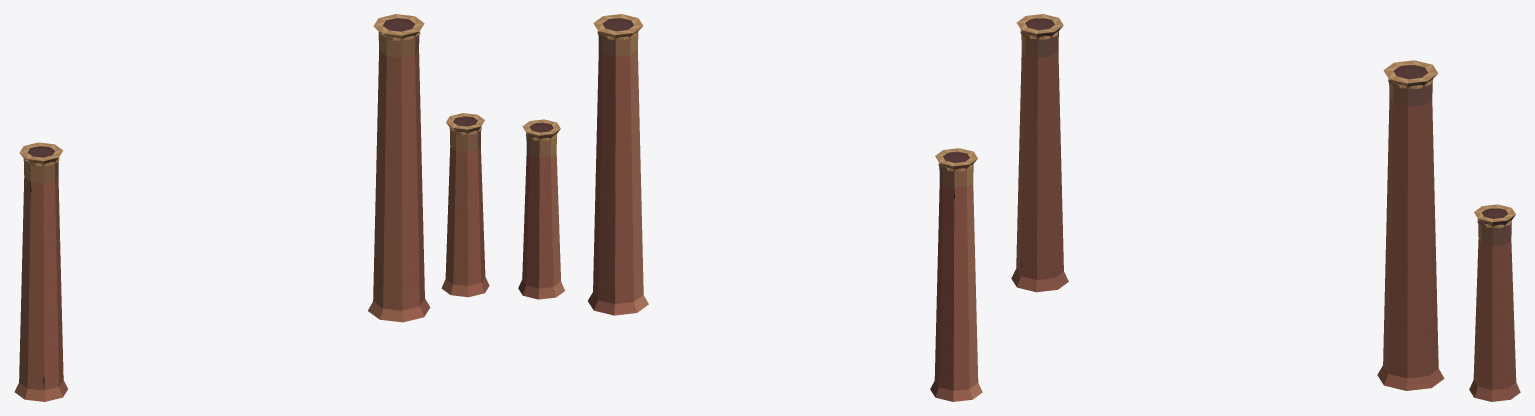
The model's file is Cinder_Kiln_Flues_LOD1.glb.
3 views of the same model, side by side, from view 1: azimuth 30°, elevation 25°; view 2: azimuth 150°, elevation 25°; view 3: azimuth 330°, elevation 25° (orthographic). The views are drawn at different scales.
Parts seen in each view (by area): view 1: Cinder_Kiln_Flues_LOD1; view 2: Cinder_Kiln_Flues_LOD1; view 3: Cinder_Kiln_Flues_LOD1.
Boxes of the visible parts, x1=… form: Cinder_Kiln_Flues_LOD1: x1=14, y1=14, x2=489, y2=401; Cinder_Kiln_Flues_LOD1: x1=518, y1=14, x2=982, y2=401; Cinder_Kiln_Flues_LOD1: x1=1011, y1=14, x2=1520, y2=401.
Bounding box in the file's own units: 44.98 × 26.26 × 5.55.
1 material, 1 textured.
